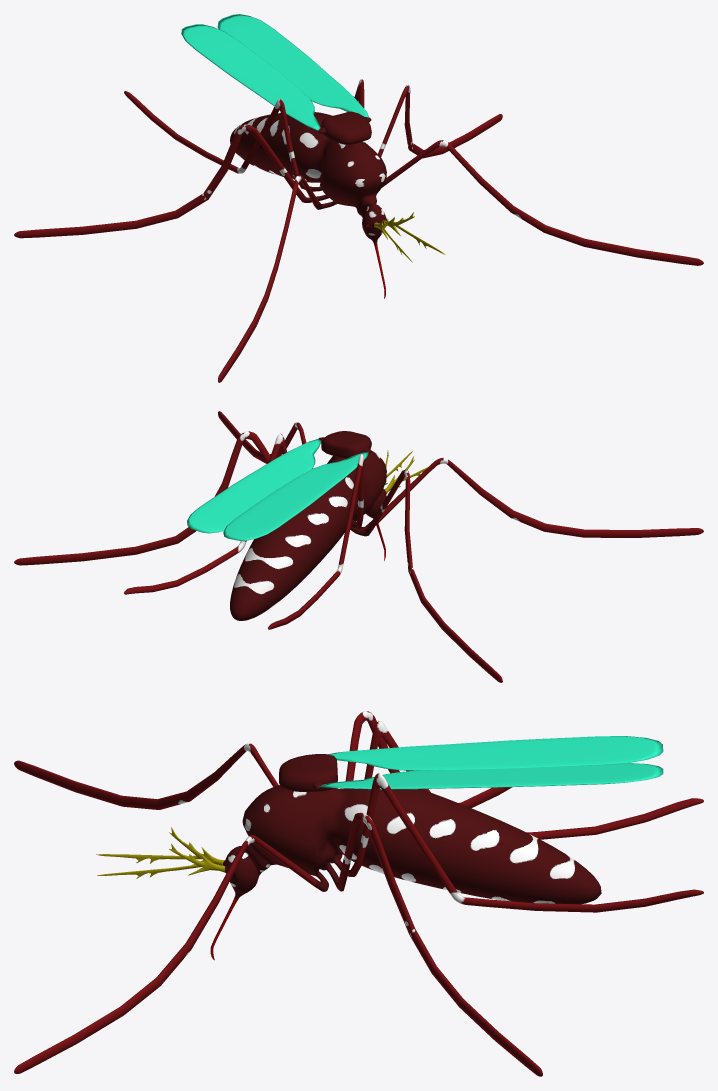
File: mosquito.obj
3 views of the same model, one above another, from view 1: azimuth 30°, elevation 25°; view 2: azimuth 150°, elevation 25°; view 3: azimuth 270°, elevation 25° (orthographic). The views are drawn at different scales.
Visible parts, largest first — view 1: polySurface2; view 2: polySurface2; view 3: polySurface2.
Boxes of the visible parts, x1=… form: polySurface2: x1=14, y1=14, x2=703, y2=382; polySurface2: x1=14, y1=411, x2=703, y2=682; polySurface2: x1=14, y1=711, x2=703, y2=1076.
Bounding box in the file's own units: 26.75 × 8.56 × 25.1.
1 material, 1 textured.
